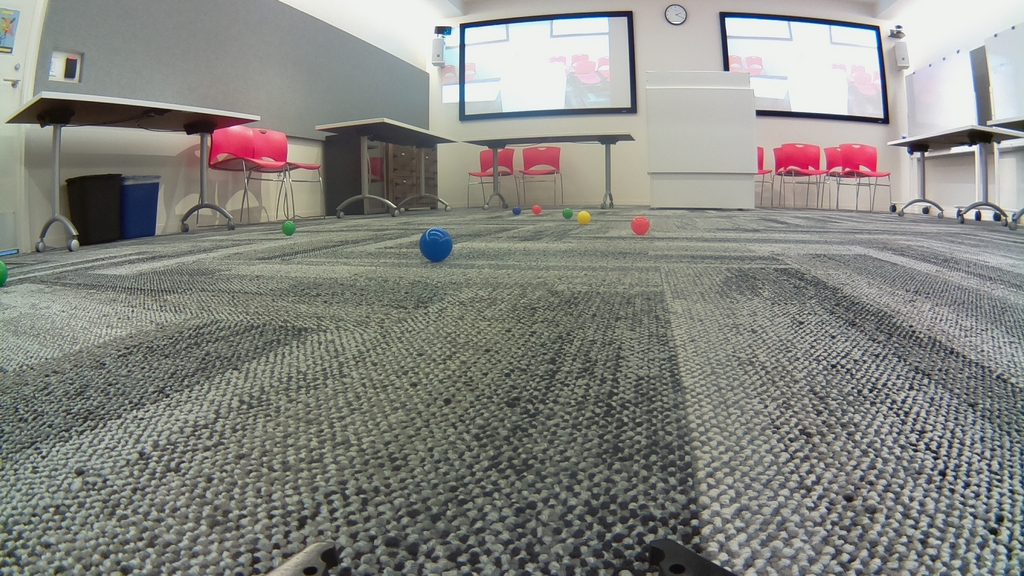ball: (577, 211, 591, 224)
